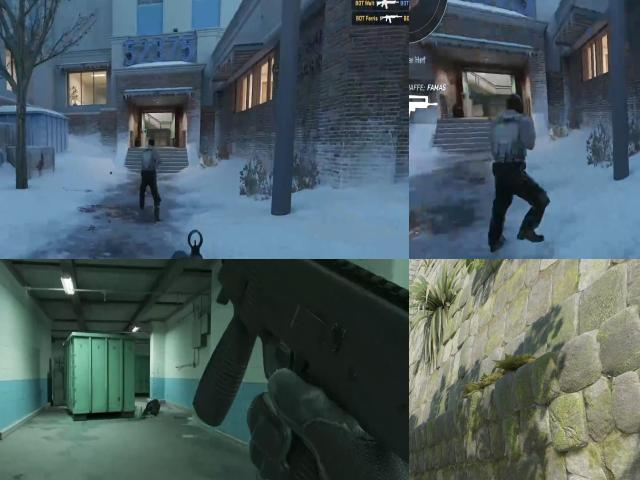Dead: (140, 394, 164, 422)
T: (488, 92, 536, 180), (138, 143, 160, 180)
T-Head: (500, 90, 527, 120), (146, 137, 155, 156)
